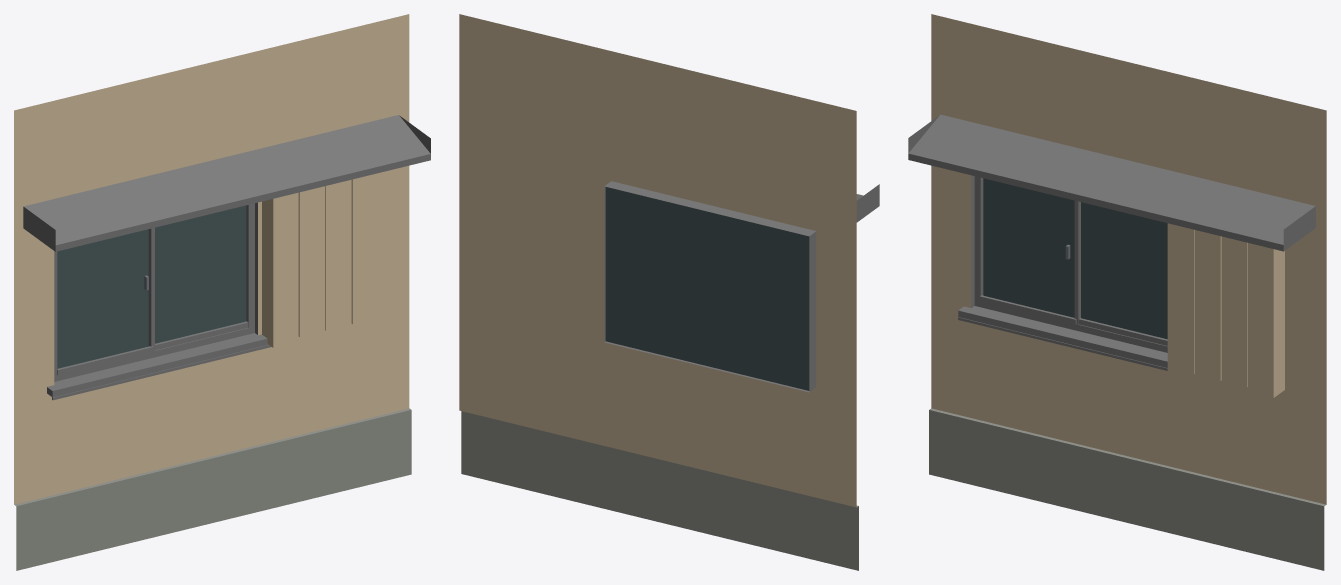
The model's file is base-w1_close.fbx.
3 views of the same model, side by side, from view 1: azimuth 30°, elevation 25°; view 2: azimuth 150°, elevation 25°; view 3: azimuth 330°, elevation 25° (orthographic).
Parts seen in each view (by area): view 1: a2000/400/base-w1_close; view 2: a2000/400/base-w1_close; view 3: a2000/400/base-w1_close.
Part boxes in pixels (x1,y1,x2,y2): a2000/400/base-w1_close: [14, 14, 430, 570]; a2000/400/base-w1_close: [459, 14, 879, 570]; a2000/400/base-w1_close: [908, 14, 1326, 570].
Size of the model in its own units: 3.2 by 3.55 by 0.55.
